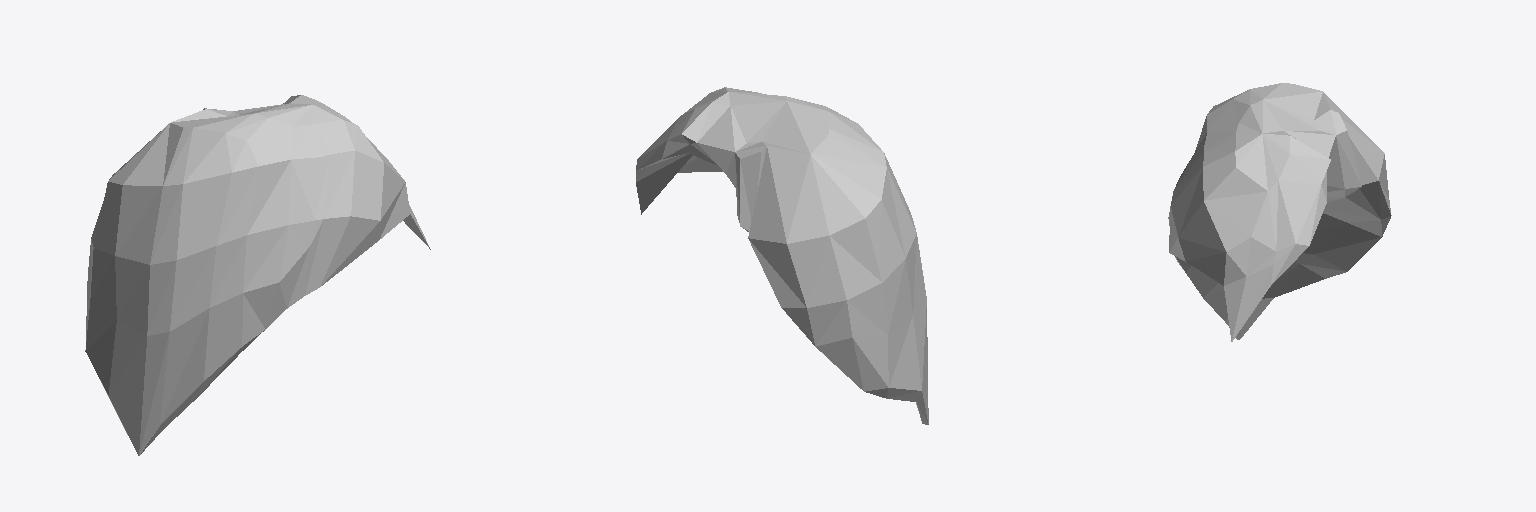
Rendered from foie_GF_avec_pointe2.obj.
The picture shows the model from 3 angles: view 1: azimuth 30°, elevation 25°; view 2: azimuth 150°, elevation 25°; view 3: azimuth 270°, elevation 25°; orthographic projection.
Visible parts, largest first — view 1: 1_Visual; view 2: 1_Visual; view 3: 1_Visual.
Boxes of the visible parts, x1=… form: 1_Visual: x1=85, y1=95, x2=430, y2=455; 1_Visual: x1=636, y1=87, x2=928, y2=424; 1_Visual: x1=1168, y1=83, x2=1391, y2=341.
Size of the model in its own units: 6.74 by 6.46 by 4.32.